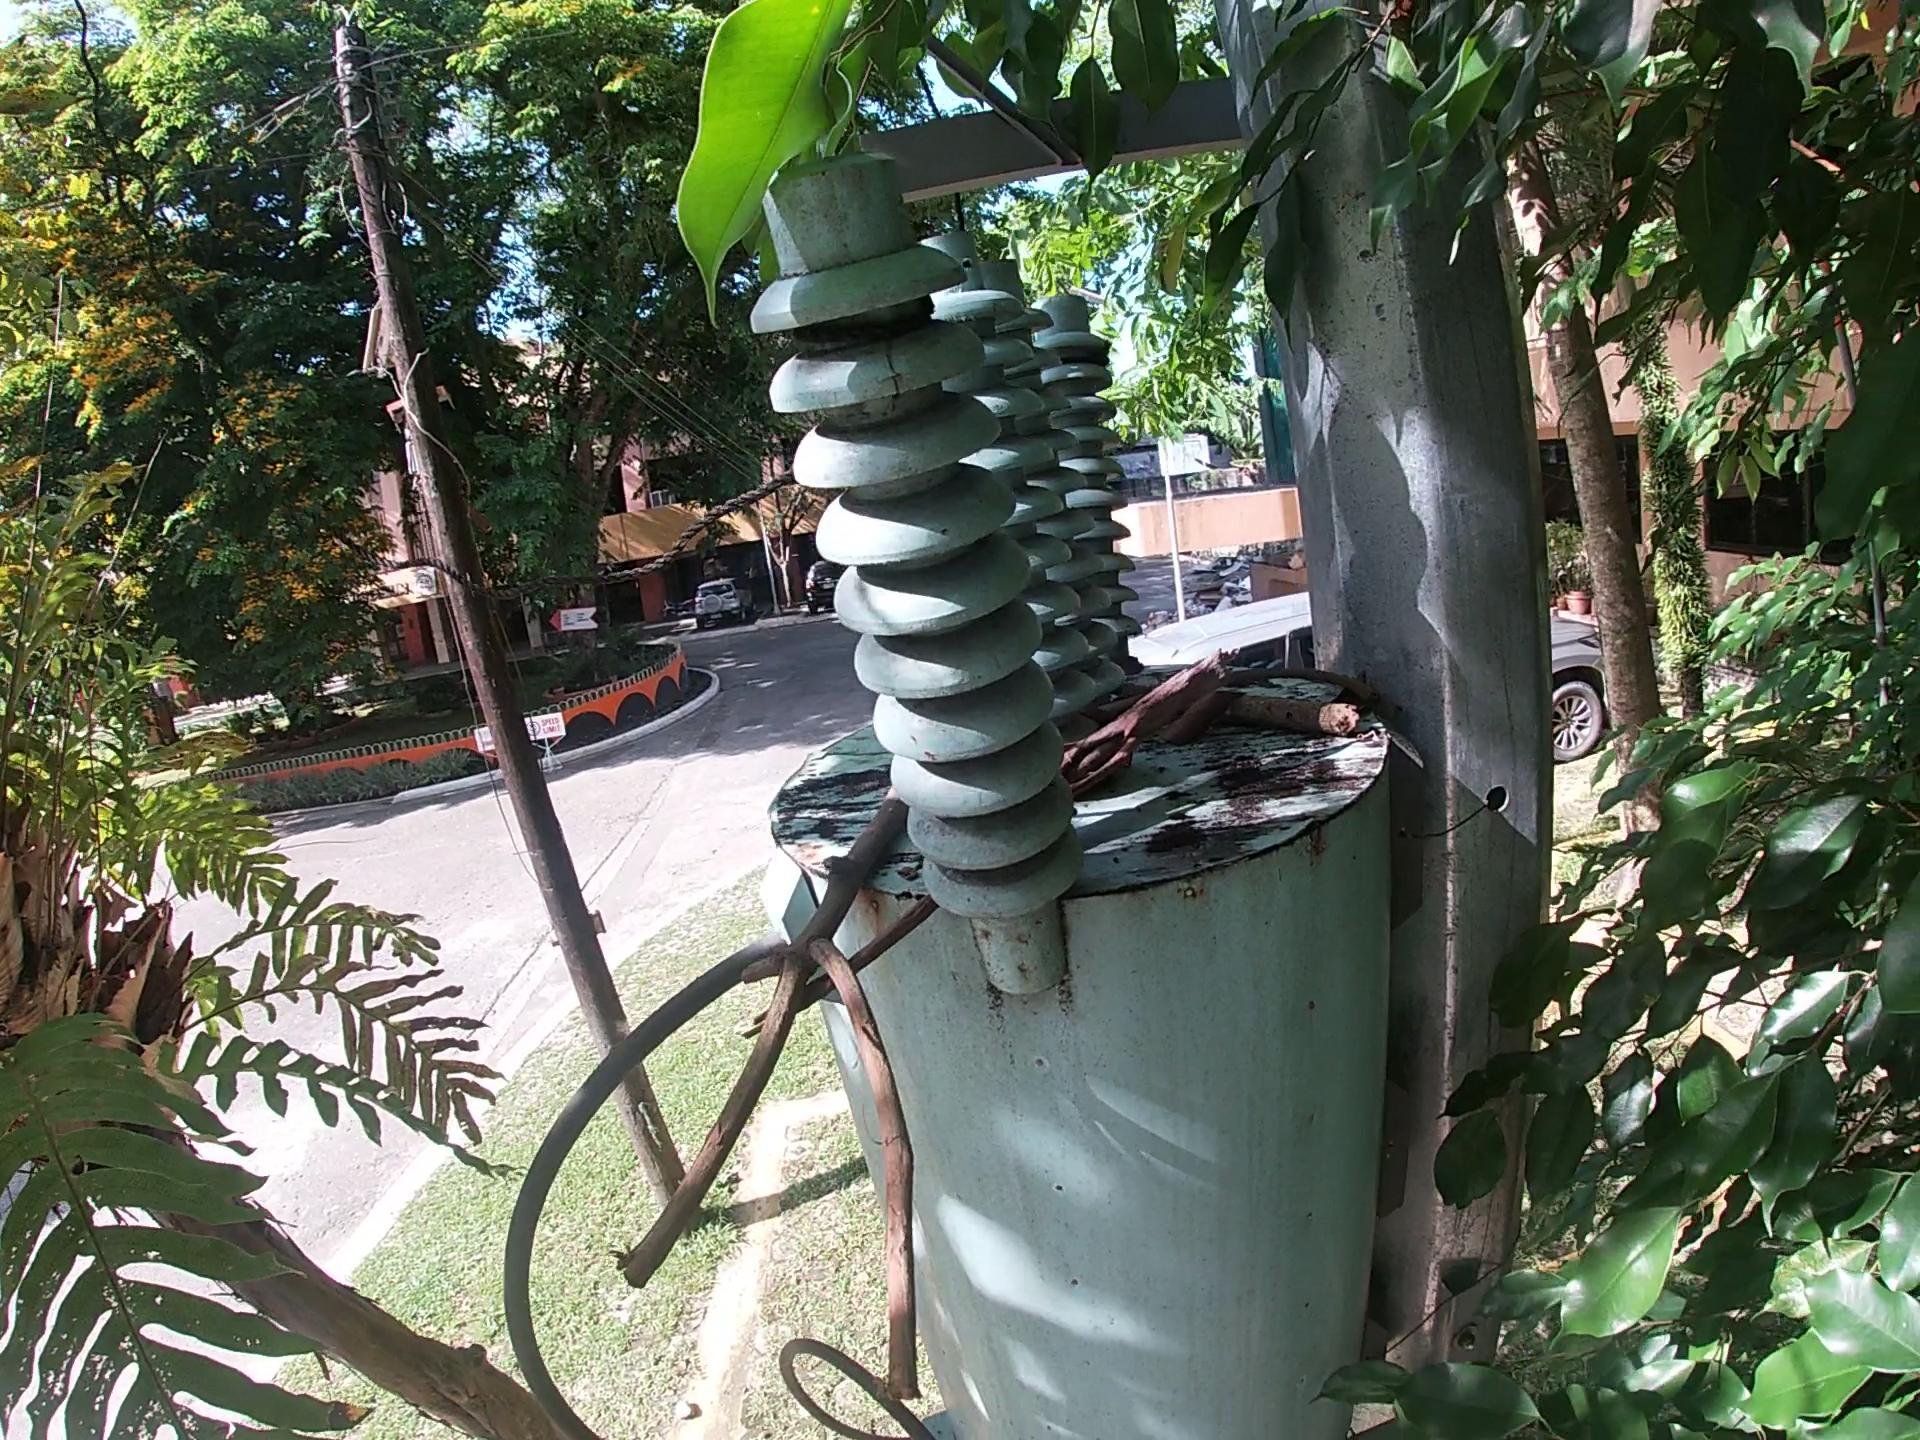leaf: (1157, 687, 1249, 752), (1330, 670, 1373, 718)
tree branch: (602, 781, 937, 1414), (735, 889, 948, 1044), (1054, 650, 1231, 802), (1119, 681, 1361, 737), (1206, 661, 1389, 718)
